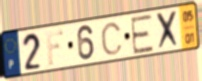2: (21, 29, 45, 74)
6: (76, 24, 96, 62)
C: (99, 21, 124, 57)
E: (129, 12, 155, 56)
F: (45, 28, 65, 67)
X: (155, 9, 181, 53)
